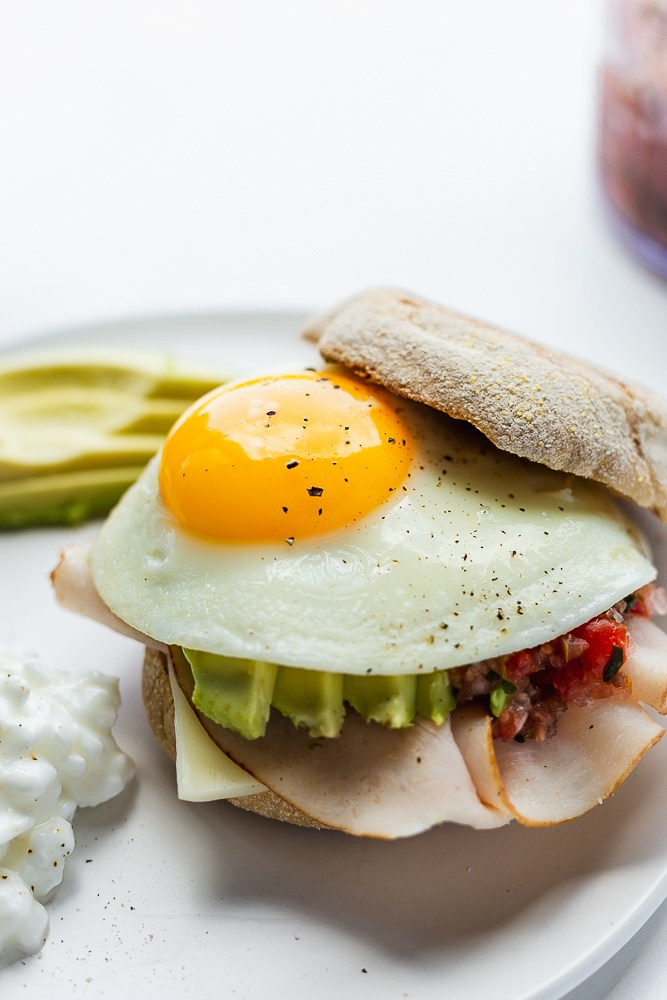fried egg: (133, 403, 524, 627)
slice of bread: (389, 317, 629, 456)
